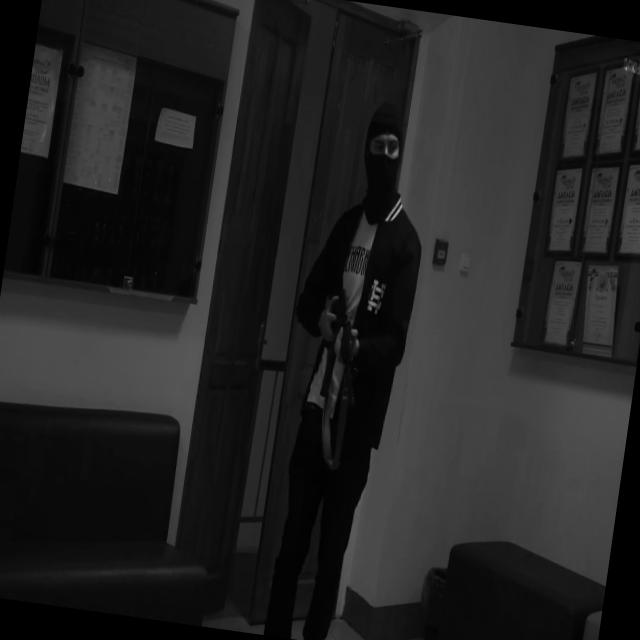gun: (308, 252, 376, 412)
person with a gun: (250, 93, 441, 640)
